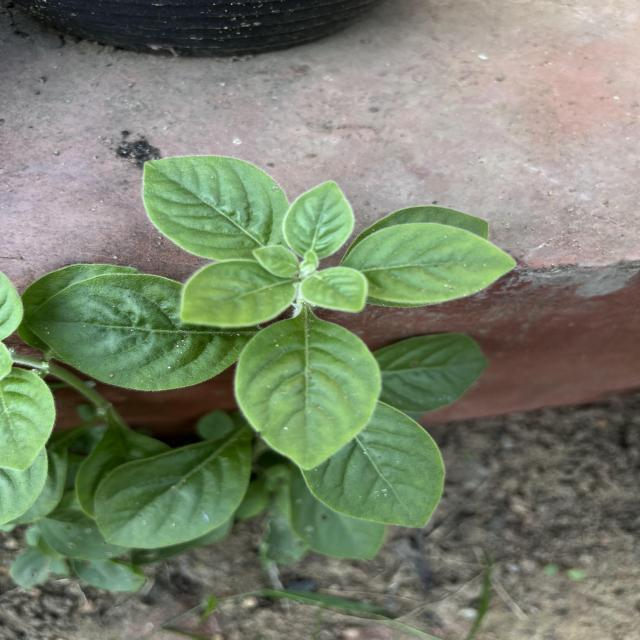Aerva lanata: (24, 270, 252, 394), (298, 397, 450, 532), (136, 152, 292, 260)
